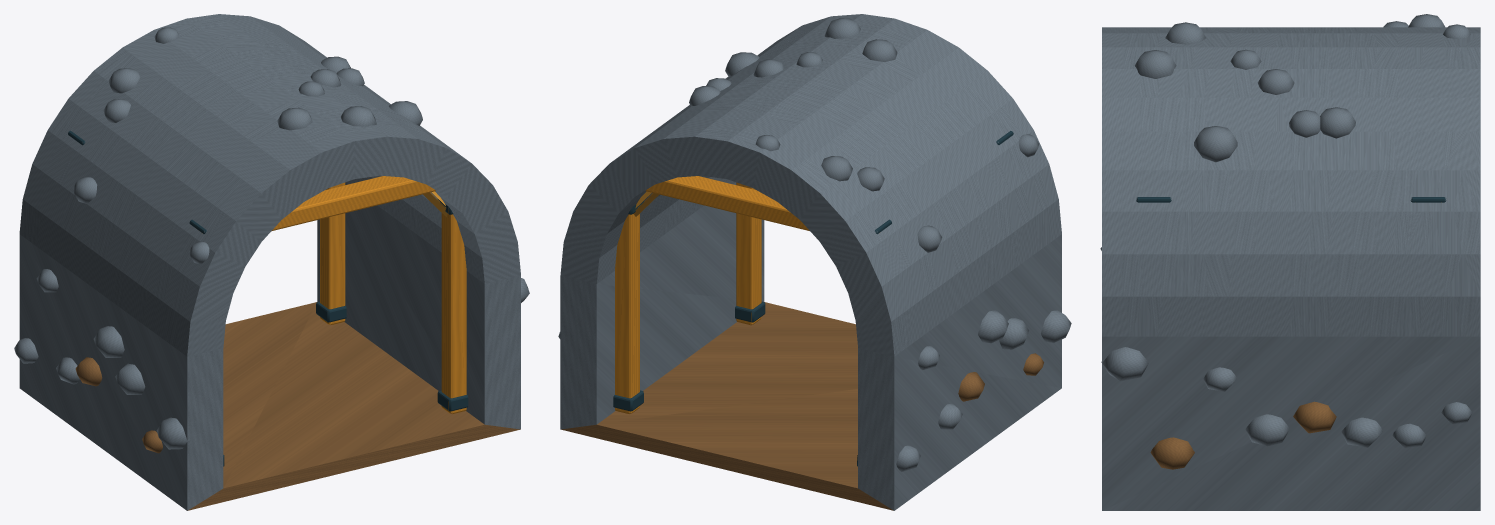
The model's file is Building_Tunnel_RockStraight4m_001_v12_Lining.glb.
3 renders of one model, left to right at view 1: azimuth 30°, elevation 25°; view 2: azimuth 150°, elevation 25°; view 3: azimuth 270°, elevation 25°, orthographic. The views are drawn at different scales.
Parts seen in each view (by area): view 1: RockStraight4m_WallsFloor, RockStraight4m_Roof; view 2: RockStraight4m_WallsFloor, RockStraight4m_Roof; view 3: RockStraight4m_Roof, RockStraight4m_WallsFloor.
Part boxes in pixels (box(x1,y1,x2,y2)): RockStraight4m_WallsFloor: box(14, 130, 529, 510); RockStraight4m_Roof: box(19, 14, 520, 356); RockStraight4m_WallsFloor: box(558, 131, 1071, 510); RockStraight4m_Roof: box(560, 14, 1061, 356); RockStraight4m_Roof: box(1102, 14, 1480, 336); RockStraight4m_WallsFloor: box(1100, 197, 1480, 510).
Bounding box in the file's own units: 5.08 × 4.46 × 4.02.
Materials: 1 (1 with a texture image).
